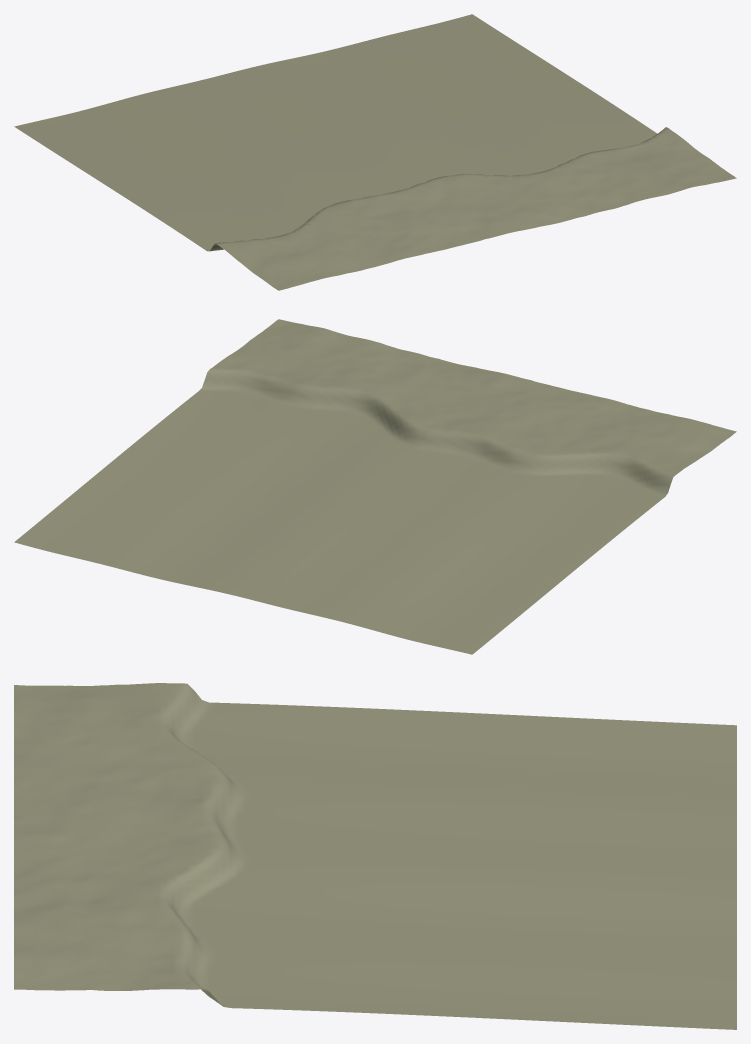
Rendered from SM_VB_Terrain_0_1.fbx.
3 views of the same model, one above another, from view 1: azimuth 30°, elevation 25°; view 2: azimuth 150°, elevation 25°; view 3: azimuth 270°, elevation 25° (orthographic). The views are drawn at different scales.
Parts seen in each view (by area): view 1: SM_VB_Terrain_0_1; view 2: SM_VB_Terrain_0_1; view 3: SM_VB_Terrain_0_1.
Part boxes in pixels (x1,y1,x2,y2): SM_VB_Terrain_0_1: (14,14,736,290); SM_VB_Terrain_0_1: (14,319,736,654); SM_VB_Terrain_0_1: (14,683,736,1029).
Bounding box in the file's own units: 400 × 27.32 × 400.
